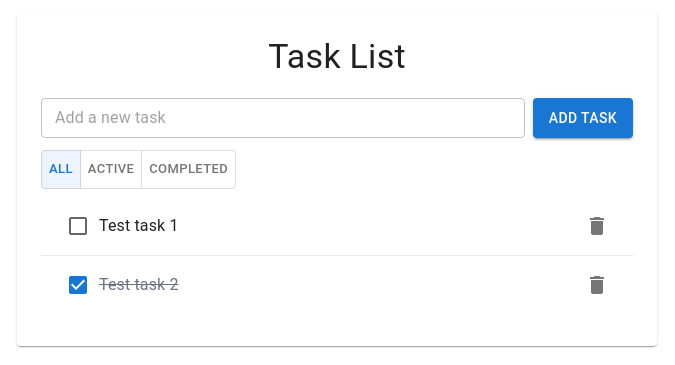
it: TaskList component › deletes a task
Expected: the text "Test task 1" is shown, [99,216,179,235]
Step 1. Click the button with test id "DeleteIcon" → (597, 226), box [577,206,617,246]
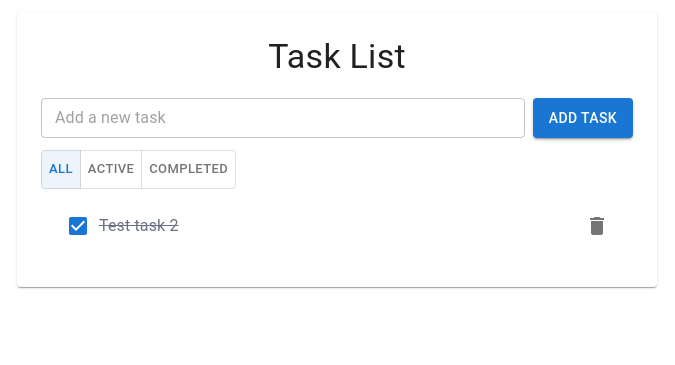
Expected: the text "Test task 1" is gone
